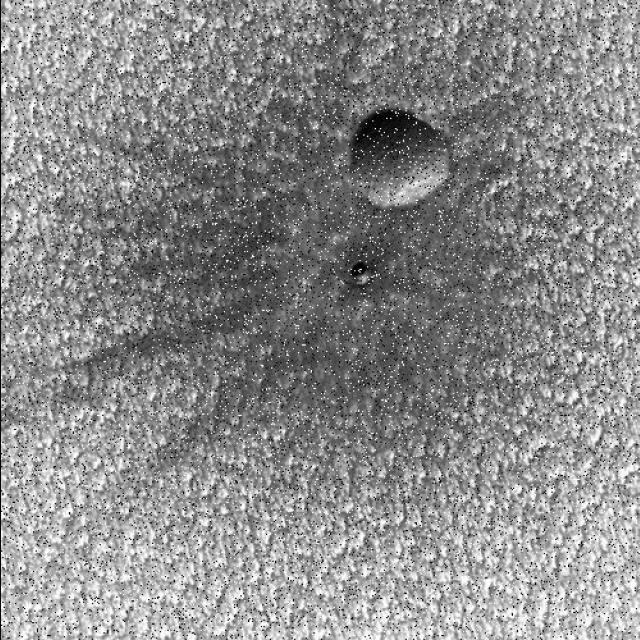crater: (336, 98, 464, 216), (341, 260, 378, 296)
